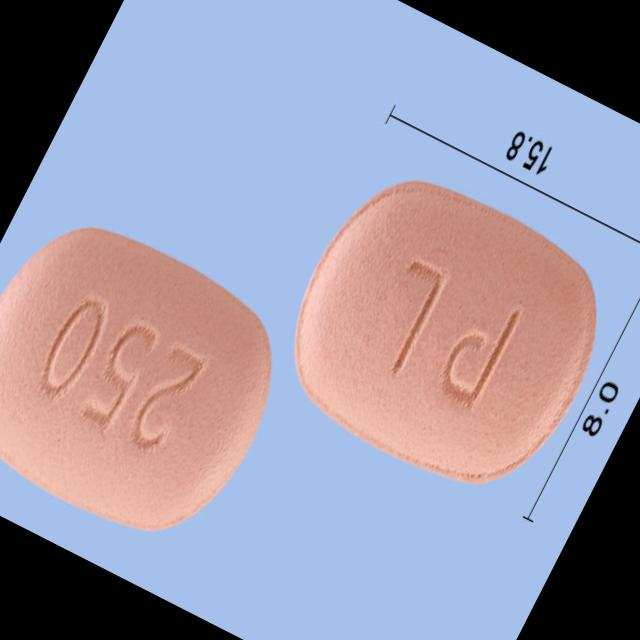Levoxacin -500mg: (255, 149, 634, 516), (0, 194, 308, 564)
